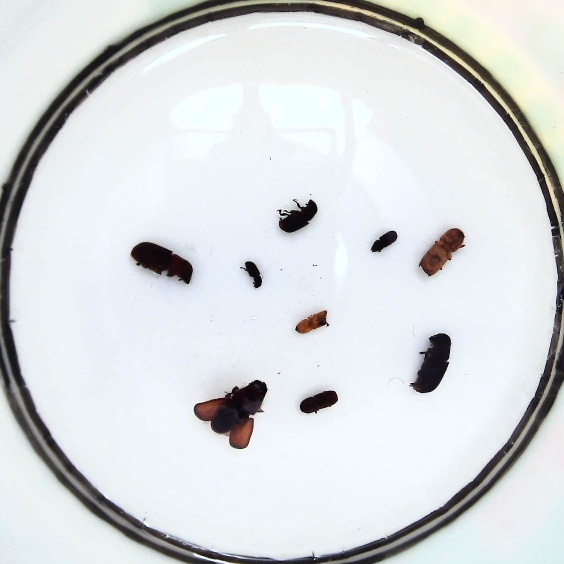acuminatus: (370, 231, 397, 253), (245, 260, 261, 289)
armandi: (279, 200, 318, 233), (300, 390, 338, 414)
coleoptera: (295, 309, 327, 333)
leconte: (193, 380, 265, 449), (131, 242, 193, 285), (411, 333, 451, 393)
linnaeus: (418, 227, 465, 276)
